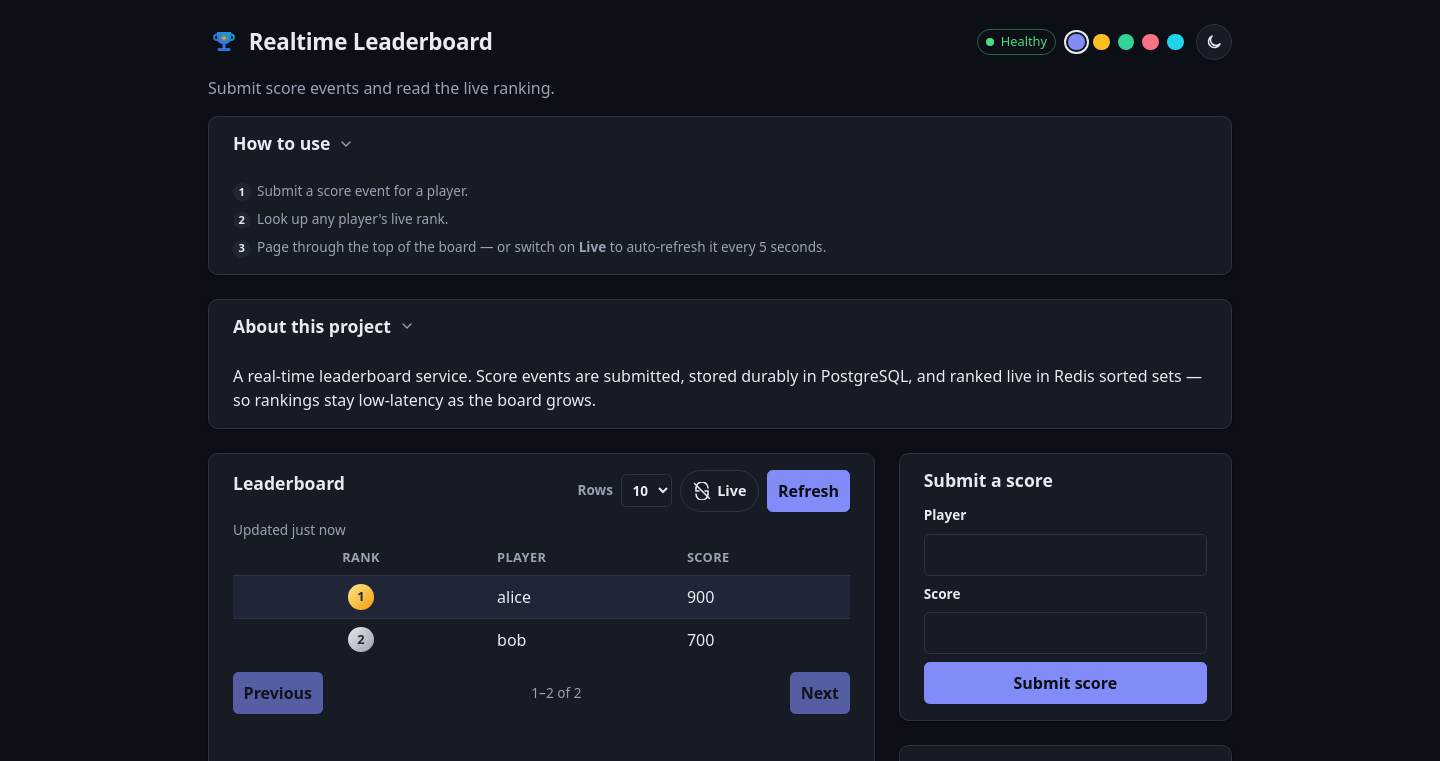
App › keeps About visible and collapses it from its title
Expected: the text "real-time leaderboard service" is shown, top-left (233, 365), bottom-right (1202, 411)
Step 1. Click the button "About this project" → [324, 326], box top-left (233, 316), bottom-right (415, 337)
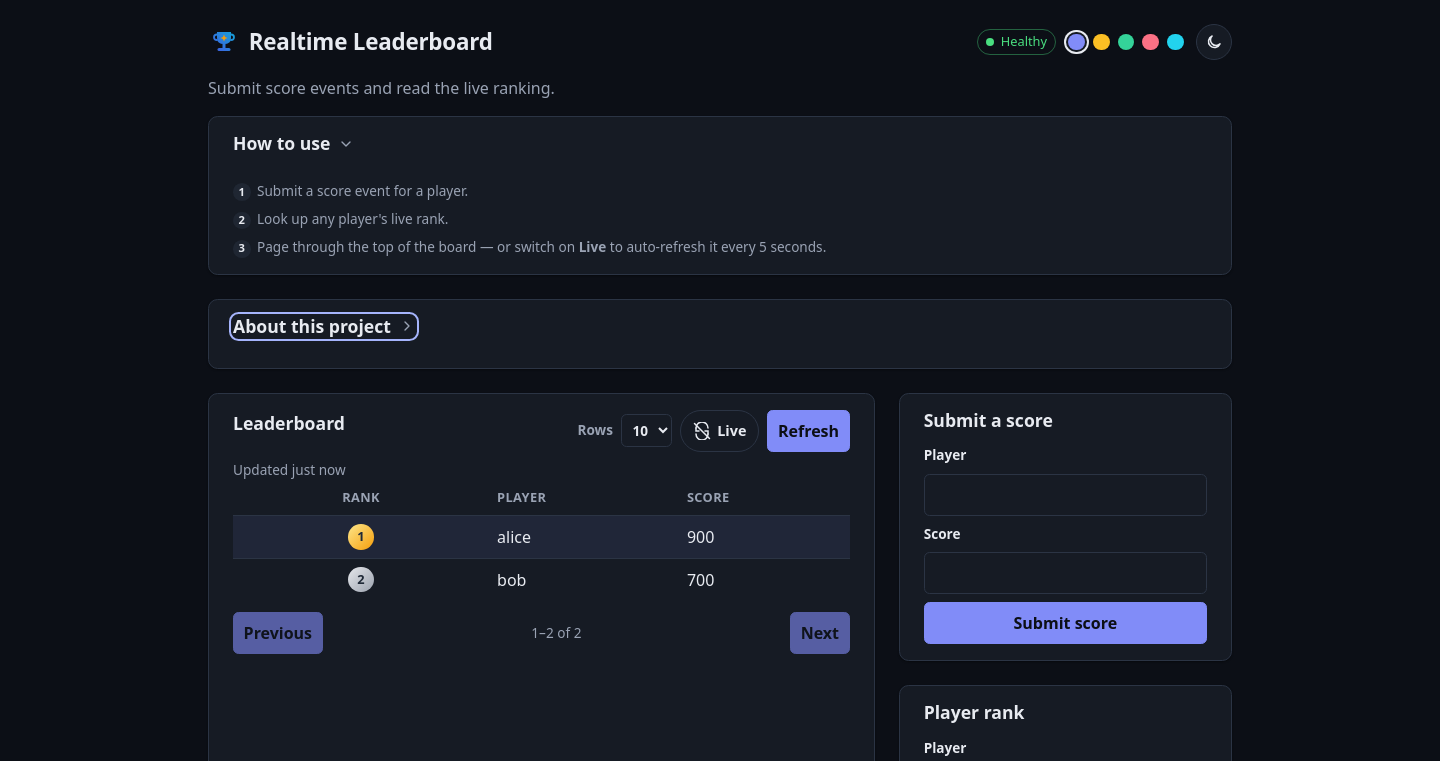
Expected: the button "About this project" is collapsed
Step 2. Click the button "About this project" → [324, 326], box top-left (233, 316), bottom-right (415, 337)
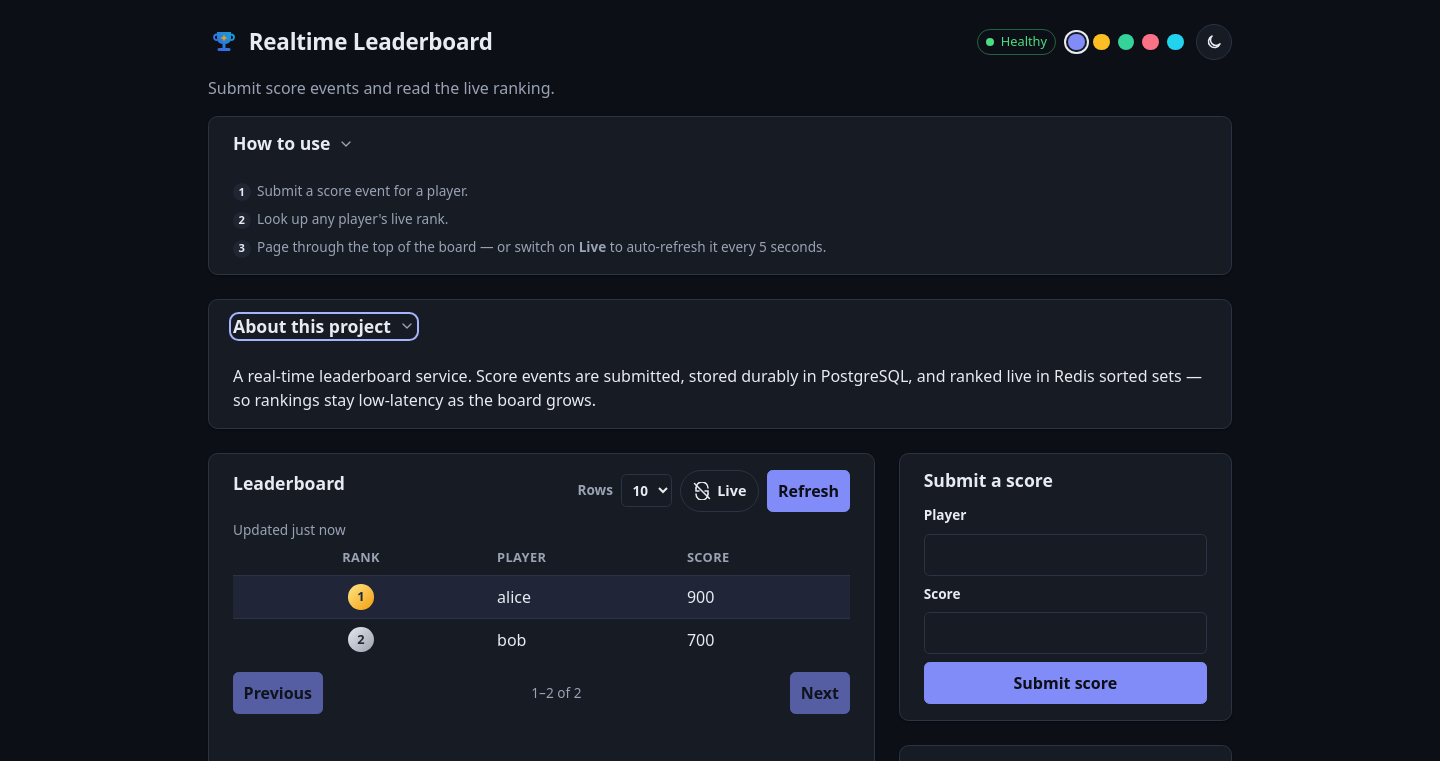
Expected: the button "About this project" is expanded, top-left (233, 316), bottom-right (415, 337)
